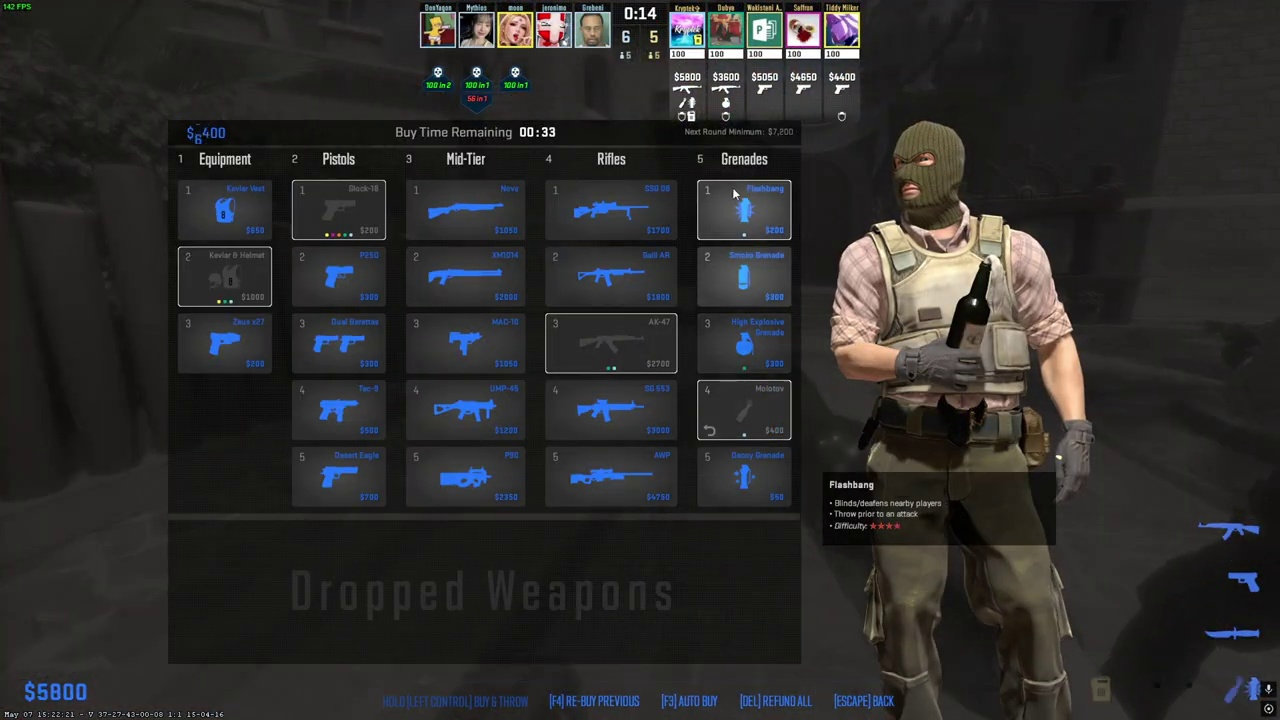Terrorist: (847, 121, 1076, 720)
